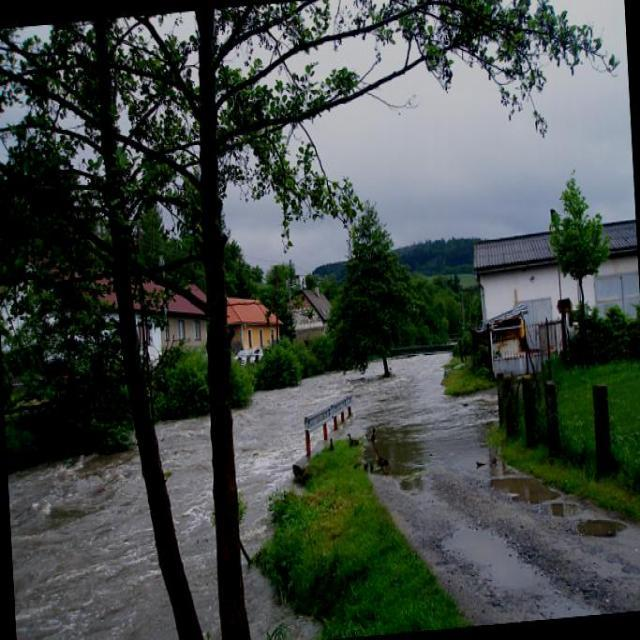flood: (2, 348, 376, 639)
